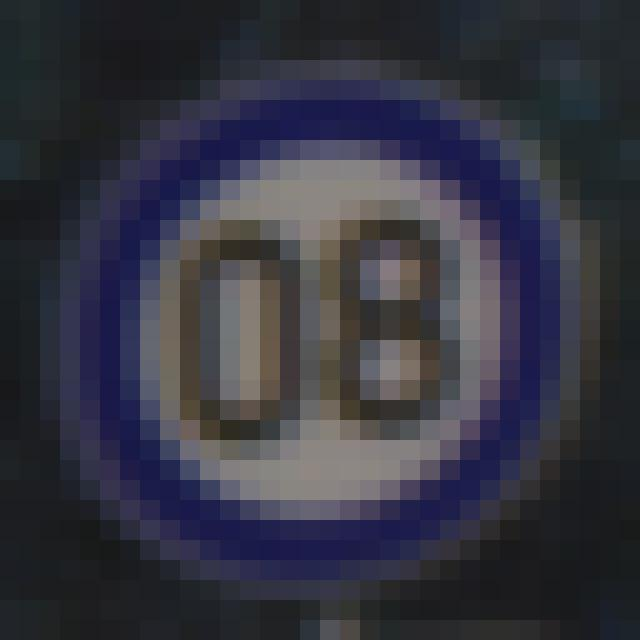SPEED-LIMIT-80: (79, 87, 579, 576)
